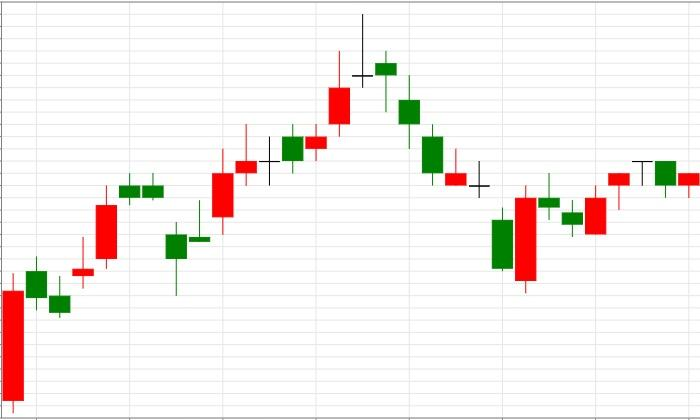bullish_engulfing_rise: (375, 50, 536, 293)
